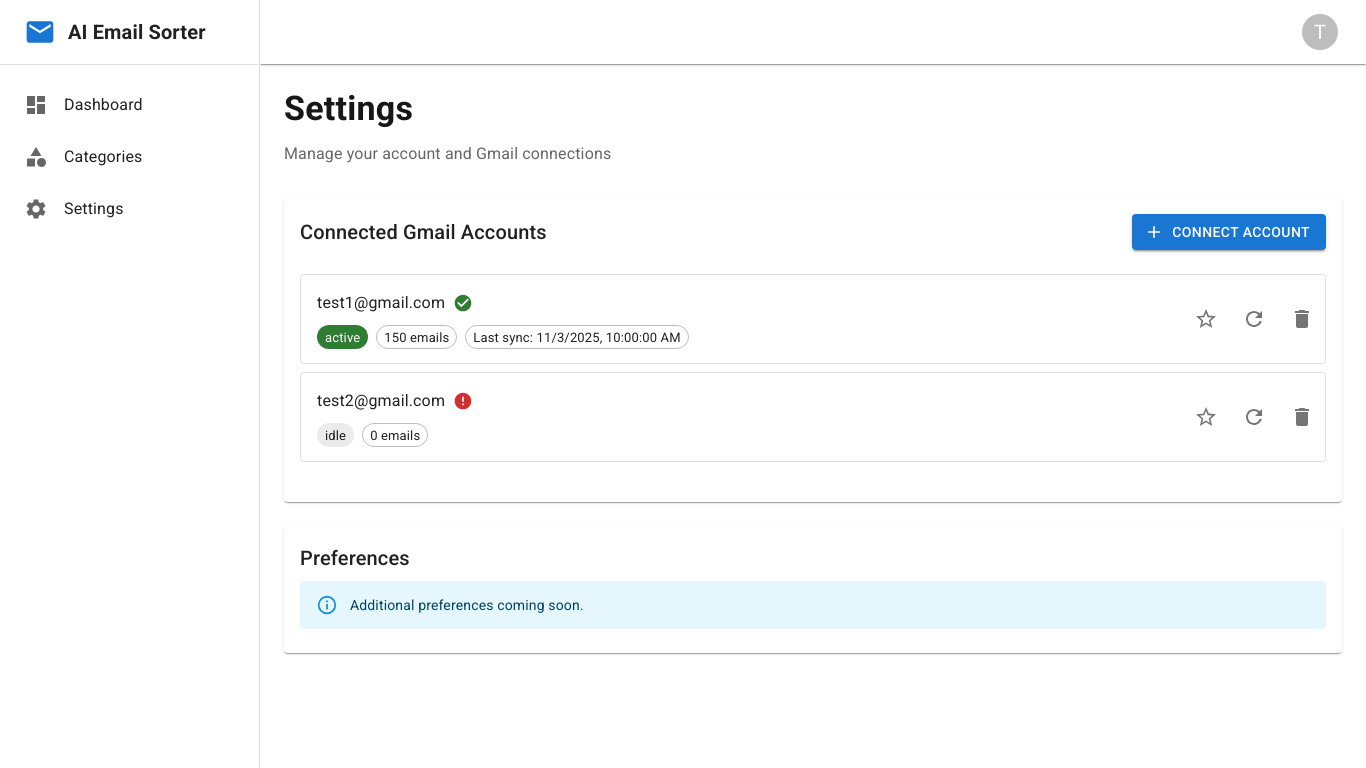
SettingsPage › displays error when disconnect fails
Expected: the heading "test1@gmail.com" is shown, [317,289,445,317]
Click the button with test id "DeleteIcon" at (1302, 319), box [1282,299,1322,339]
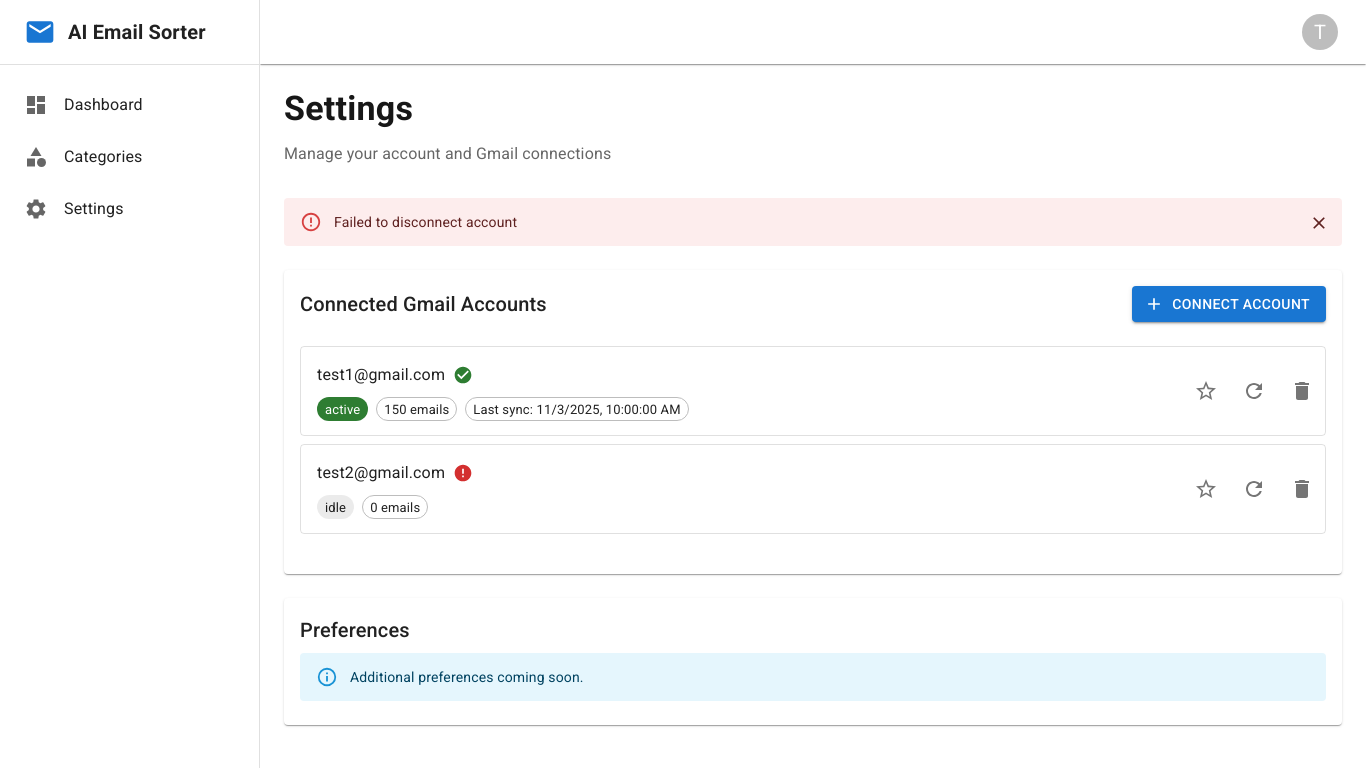
Now the text "Failed to disconnect account" is shown, box [334,214,517,230]
